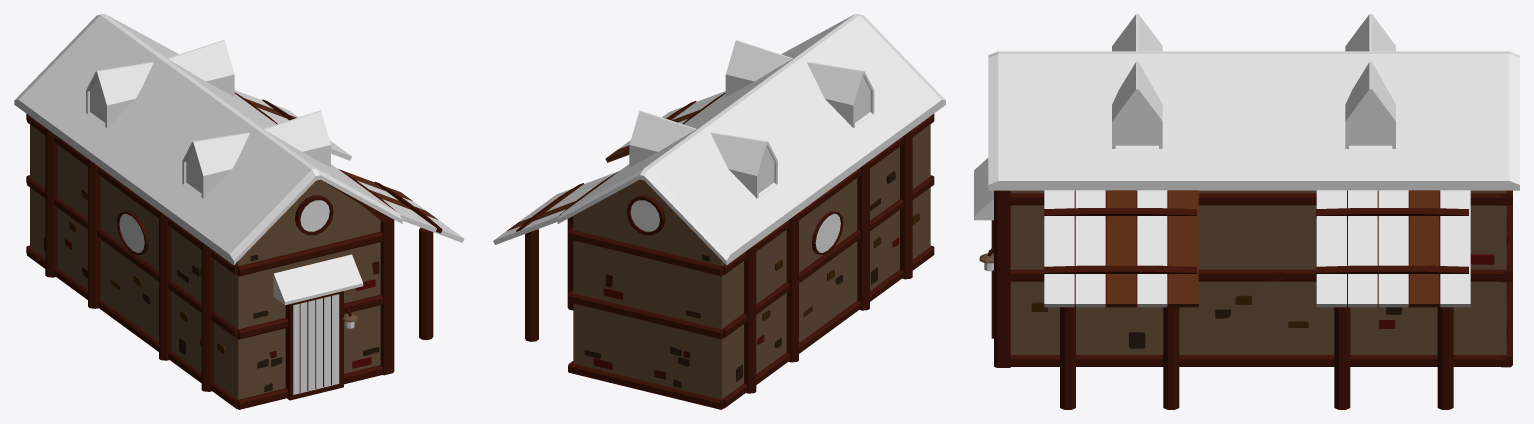
File: Village_Build_2.fbx
3 renders of one model, left to right at view 1: azimuth 30°, elevation 25°; view 2: azimuth 150°, elevation 25°; view 3: azimuth 270°, elevation 25°, orthographic. The views are drawn at different scales.
Visible parts, largest first — view 1: Cylinder.029; view 2: Cylinder.029; view 3: Cylinder.029.
Part boxes in pixels (box(x1,y1,x2,y2)): Cylinder.029: box(14, 14, 464, 409); Cylinder.029: box(493, 14, 945, 409); Cylinder.029: box(974, 14, 1519, 409).
Size of the model in its own units: 460 by 389 by 708.
